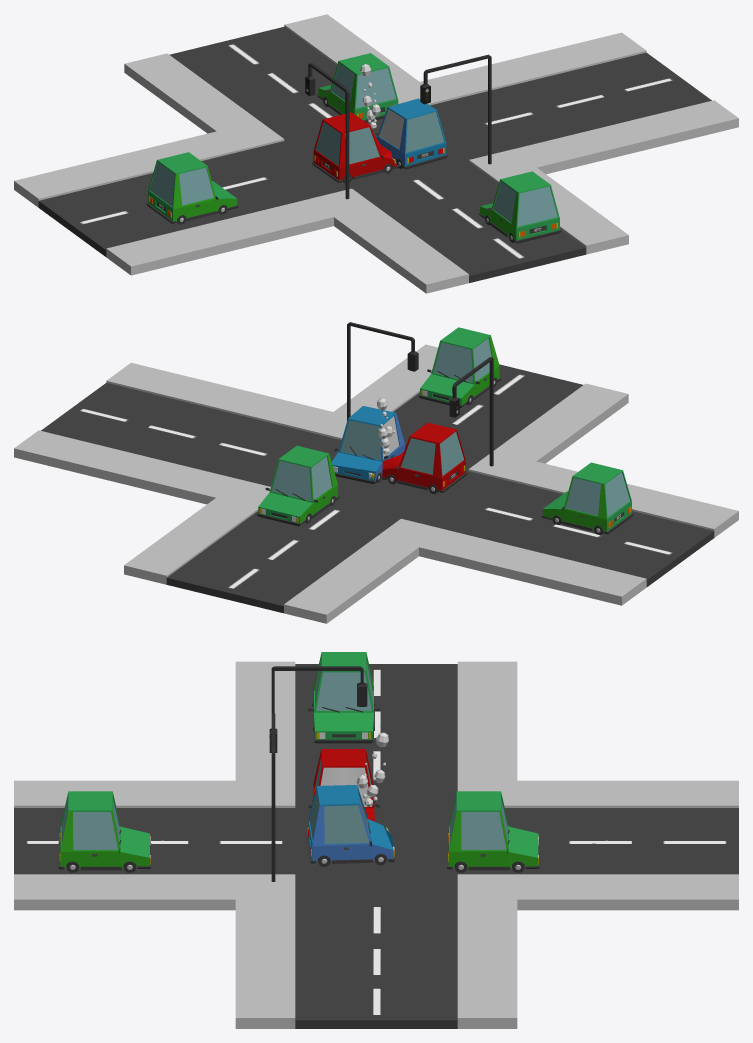
File: CenaRua.fbx
3 views of the same model, one above another, from view 1: azimuth 30°, elevation 25°; view 2: azimuth 150°, elevation 25°; view 3: azimuth 270°, elevation 25° (orthographic). The views are drawn at different scales.
Visible parts, largest first — view 1: Rua, CarroVerde2, CarroVerde3, CarroVermelho, CarroAzul, CarroVerde1, Fumaca; view 2: Rua, CarroVerde1, CarroVerde2, CarroVerde3, CarroVermelho, CarroAzul; view 3: Rua, CarroVerde3, CarroVerde1, CarroAzul, CarroVerde2, CarroVermelho, Fumaca.
Part boxes in pixels (x1,y1,x2,y2): Rua: (14,14,738,293); CarroVerde2: (146,152,238,224); CarroVerde3: (479,171,561,243); CarroVermelho: (312,112,398,183); CarroAzul: (375,98,447,169); CarroVerde1: (317,53,398,122); Fumaca: (360,64,380,129); Rua: (14,322,738,623); CarroVerde1: (257,445,339,526); CarroVerde2: (541,462,633,535); CarroVerde3: (418,327,501,407); CarroVermelho: (381,422,467,493); CarroAzul: (331,406,404,483); Rua: (14,661,738,1028); CarroVerde3: (58,791,150,872); CarroVerde1: (447,791,539,872); CarroAzul: (306,785,394,866); CarroVerde2: (308,652,379,743); CarroVermelho: (308,748,380,821); Fumaca: (356,732,388,806).
Bounding box in the file's own units: 23.22 × 4.3 × 19.97.
